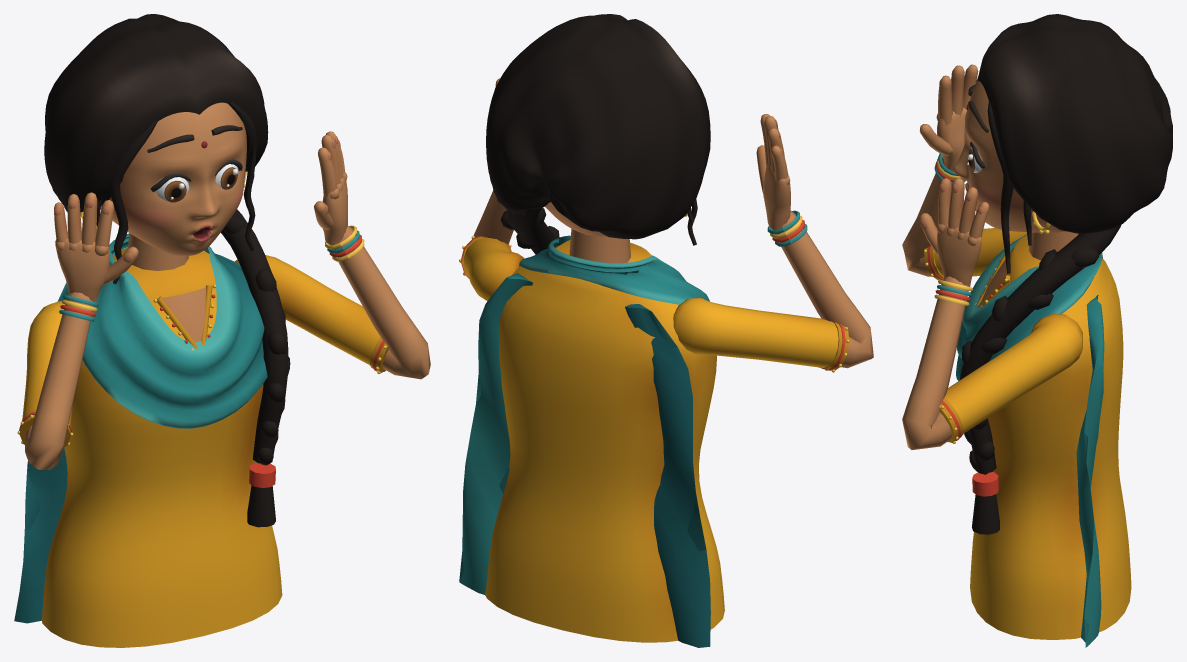
The model's file is rani_worried.glb.
The picture shows the model from 3 angles, left to right: view 1: azimuth 30°, elevation 25°; view 2: azimuth 150°, elevation 25°; view 3: azimuth 270°, elevation 25°; orthographic projection. The views are drawn at different scales.
Visible parts, largest first — view 1: body, head, arm_l, arm_r; view 2: body, head, arm_r, arm_l; view 3: body, head, arm_l, arm_r.
Part boxes in pixels (x1,y1,x2,y2): body: (14, 209, 290, 647); head: (44, 14, 268, 283); arm_l: (235, 131, 430, 379); arm_r: (17, 192, 138, 469); body: (459, 201, 724, 647); head: (486, 14, 710, 245); arm_r: (673, 114, 873, 372); arm_l: (459, 78, 523, 301); body: (956, 224, 1131, 647); head: (952, 14, 1172, 273); arm_l: (902, 178, 1082, 449); arm_r: (902, 64, 1026, 280).
Size of the model in its own units: 0.9517 by 1.31 by 0.568.
Materials: 1 (1 with a texture image).
